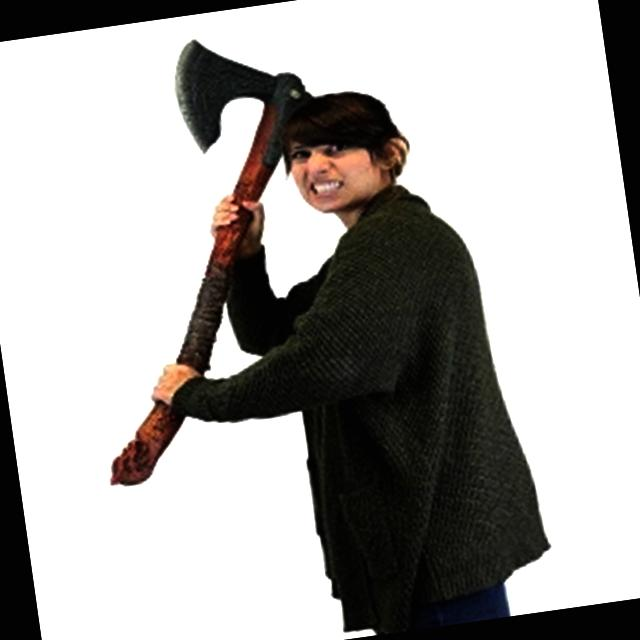ax: (40, 13, 367, 499)
